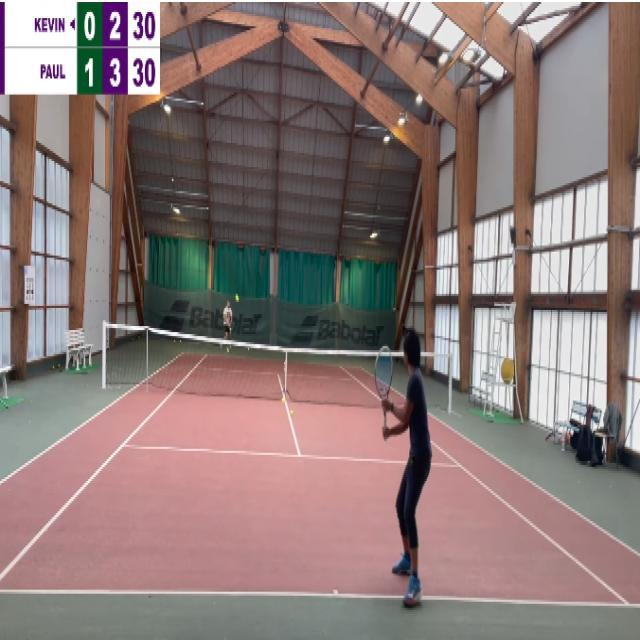ball: (235, 293, 239, 303), (290, 409, 294, 416), (282, 397, 285, 403), (180, 338, 182, 344), (248, 346, 249, 350), (174, 339, 175, 343)
